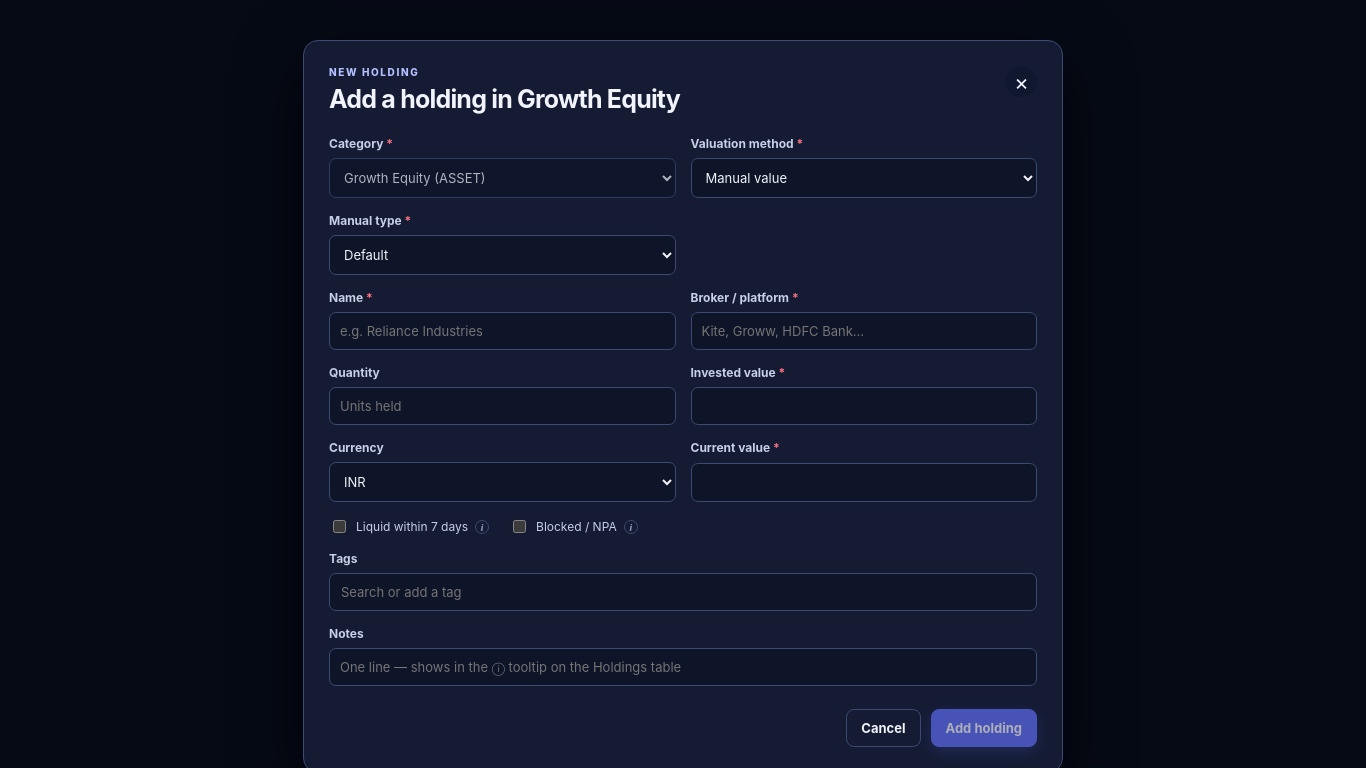
Scenario: HoldingModal — manual types › choosing Provident fund asks for invested value, accrued interest, one monthly contribution, rate and currency
Select "Provident fund" in the dropdown labelled "Manual type *" at coordinates (502, 255), box [329,235,676,275]
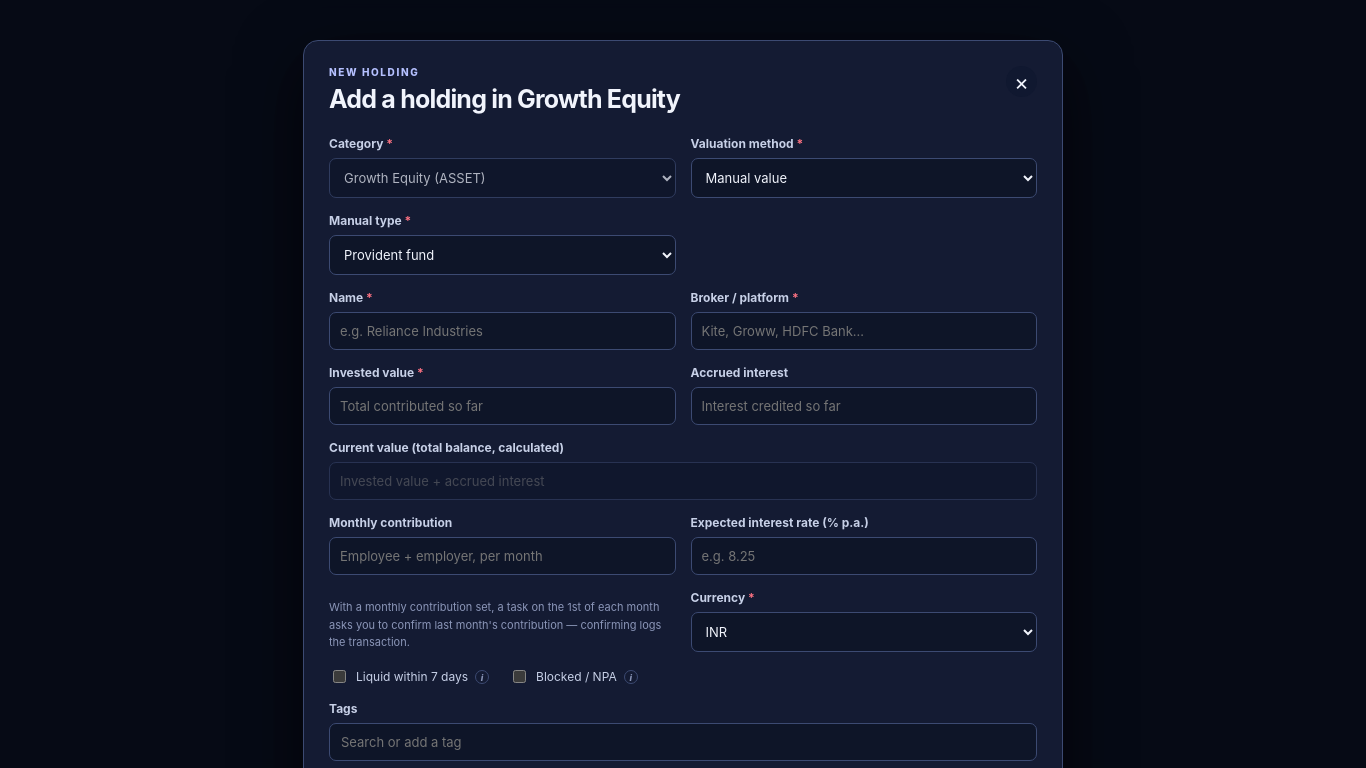
Expected: the number field labelled "Invested value *" is enabled, [329,387,676,425]
Expected: the field named "Current value (calculated)" is disabled, [329,462,1037,500]
Expected: the text labelled "Quantity" is gone
